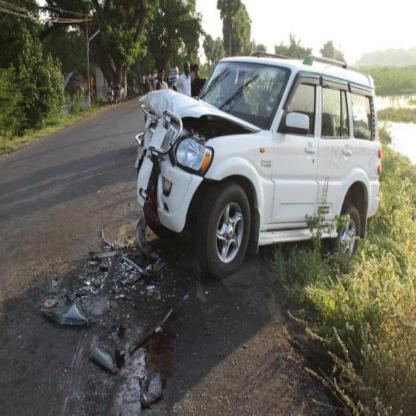face: (185, 66, 190, 76), (195, 69, 200, 77), (160, 73, 164, 82)
